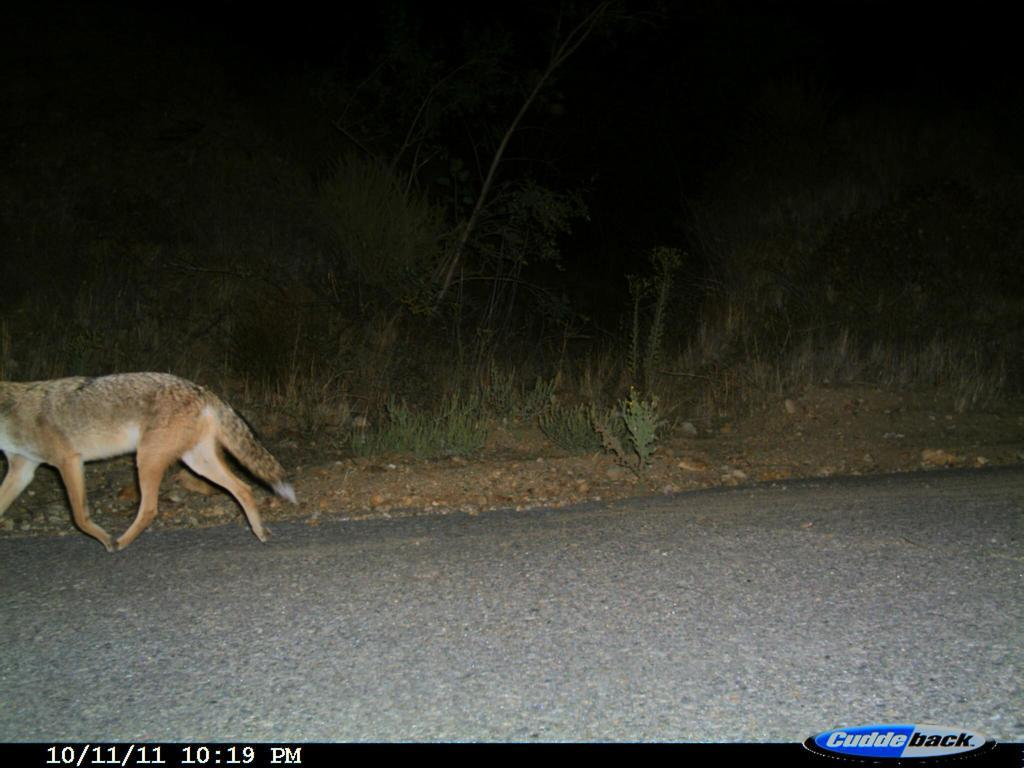coyote: (3, 365, 316, 567)
